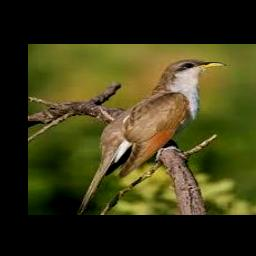Cuckoo: (75, 59, 226, 215)
